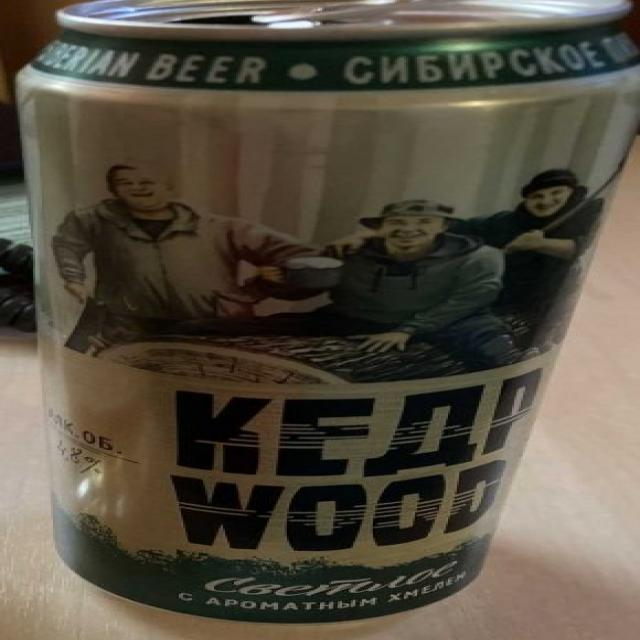Kedrwood: (0, 0, 640, 640)
